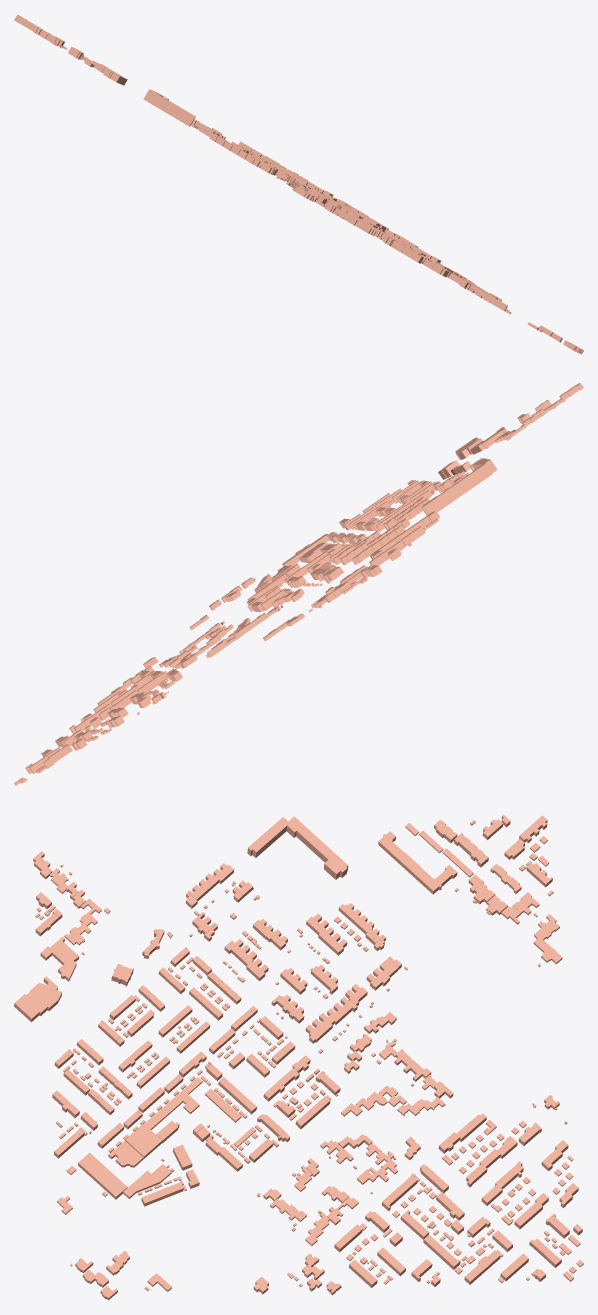
3 views of the same model, one above another, from view 1: azimuth 30°, elevation 25°; view 2: azimuth 150°, elevation 25°; view 3: azimuth 270°, elevation 25° (orthographic). The views are drawn at different scales.
Bounding box in the file's own units: 524 × 393 × 662.
